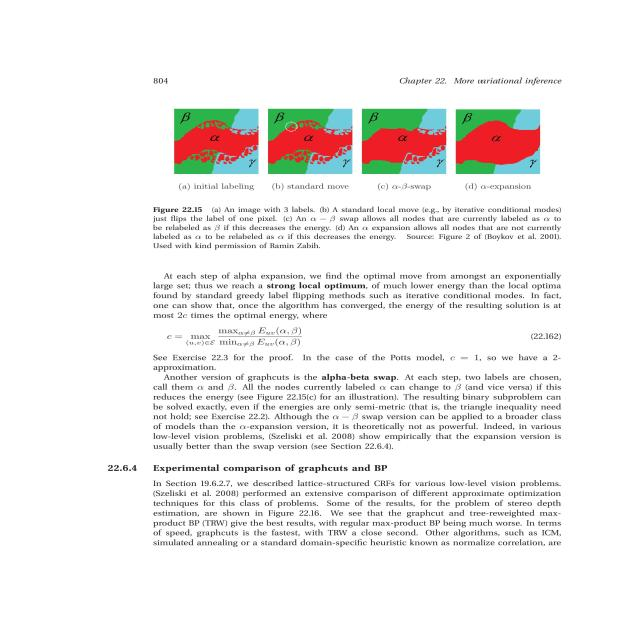diagram: (106, 103, 572, 266)
